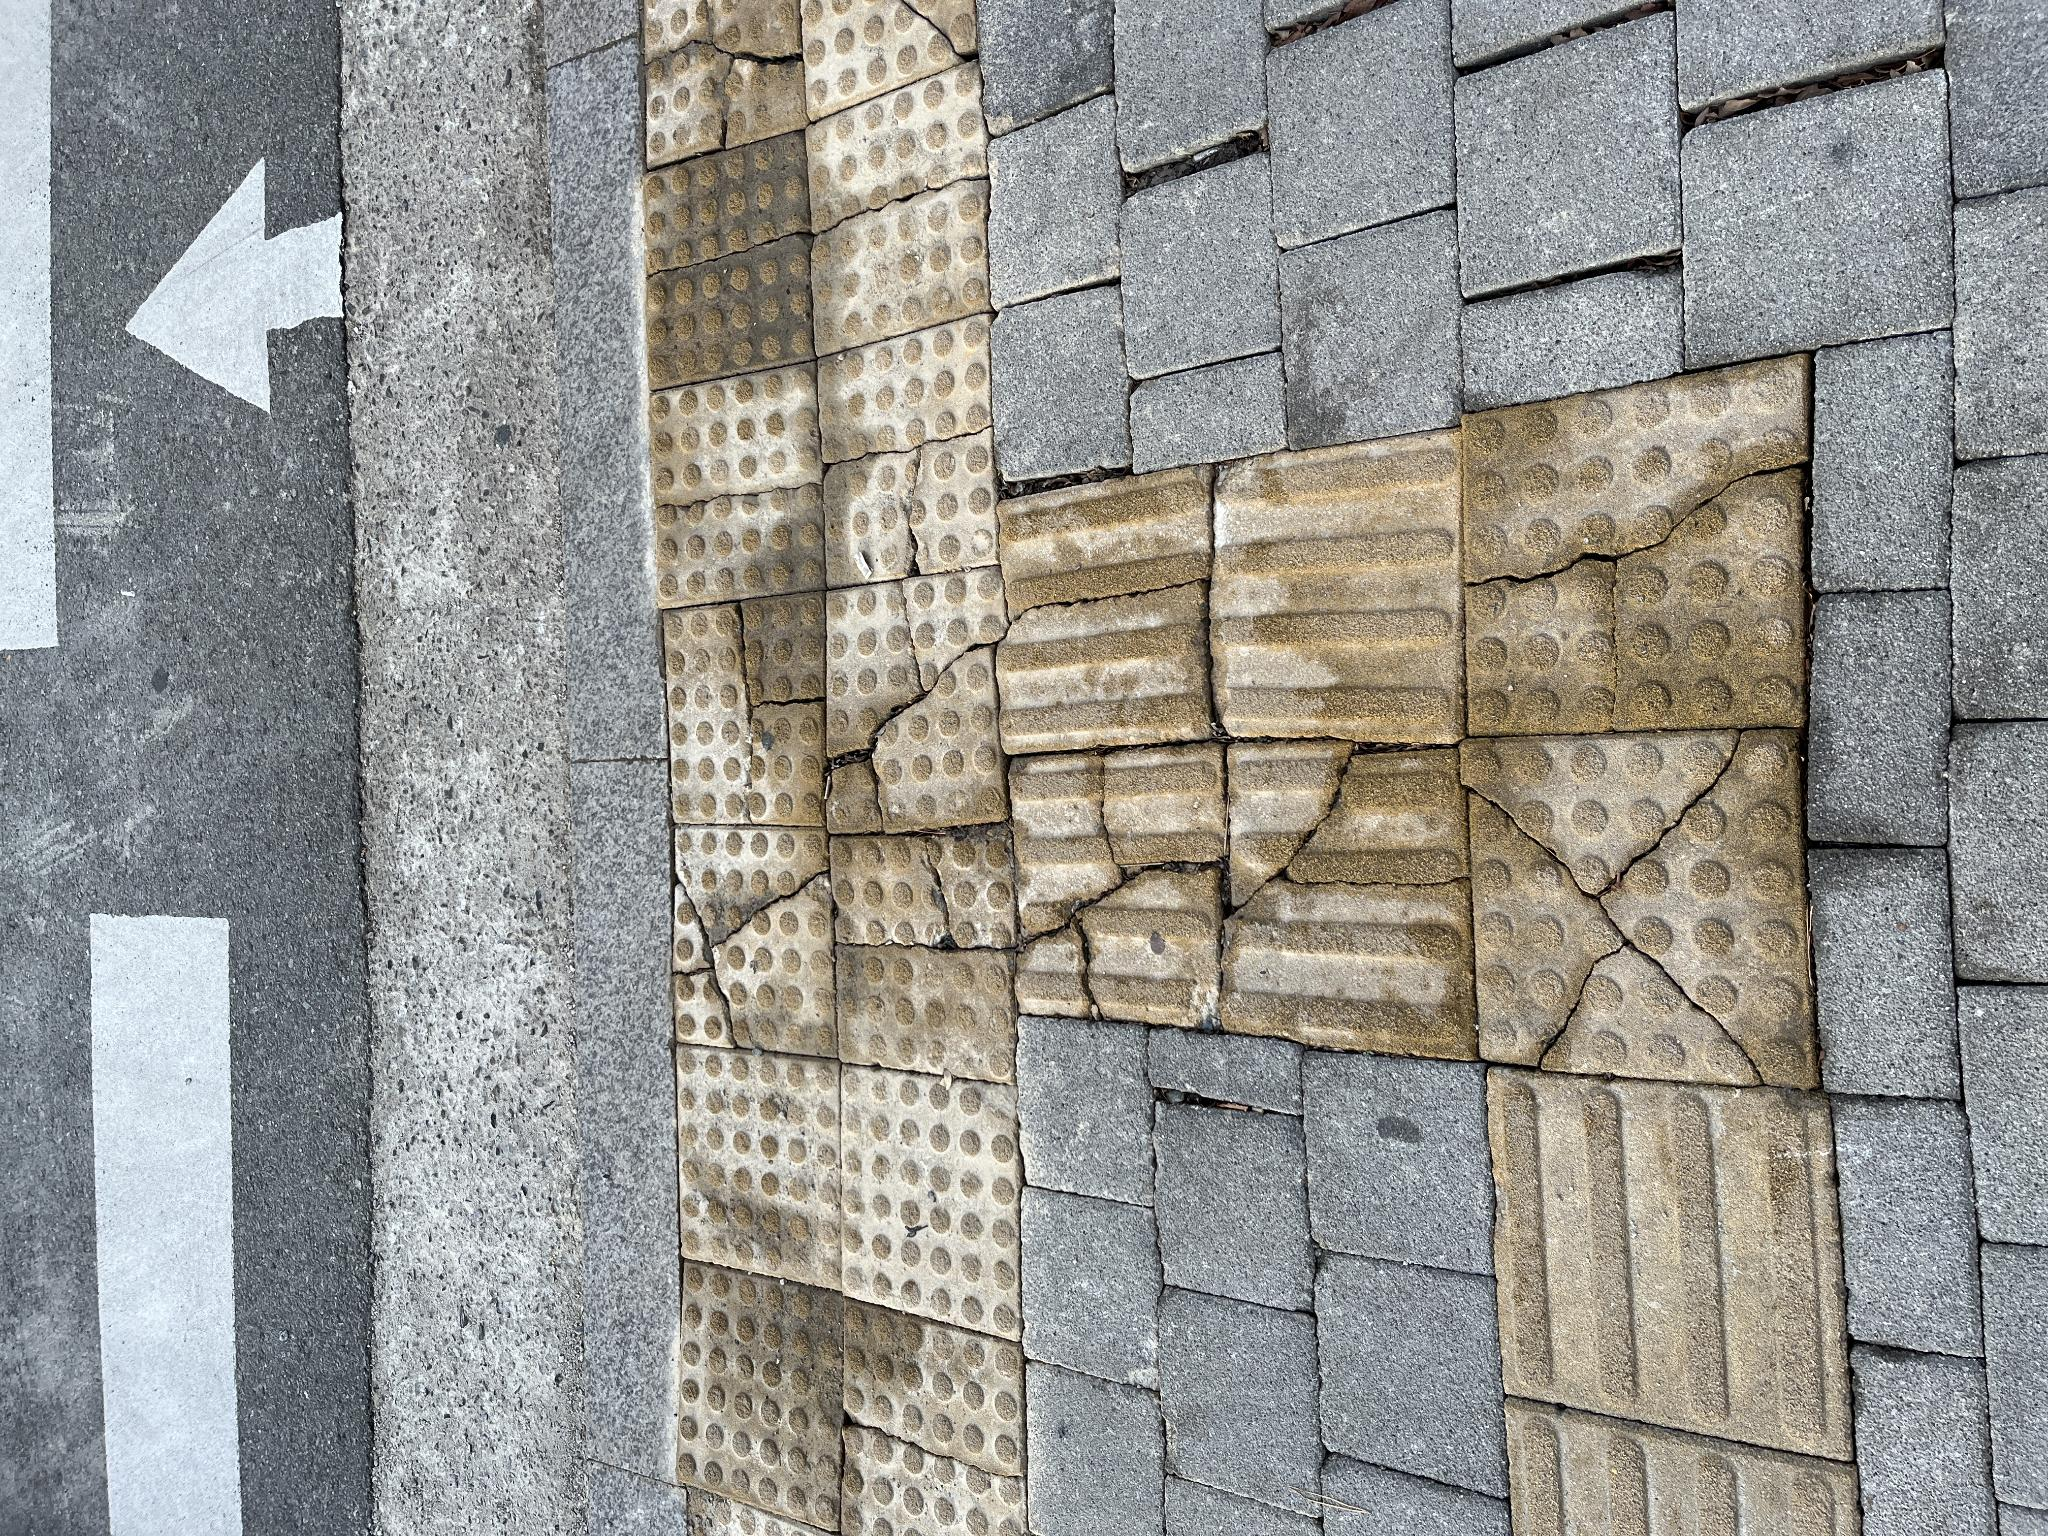Stop block broken: (1184, 808, 1469, 984), (951, 821, 1221, 995), (458, 833, 703, 1012), (706, 829, 968, 994), (1148, 645, 1398, 807), (929, 652, 1171, 818), (481, 678, 710, 833), (713, 665, 940, 820)
Stop block normal: (197, 842, 471, 1020), (250, 679, 489, 837)
Straight block broken: (481, 1228, 787, 1471), (785, 1002, 1066, 1213), (514, 1008, 787, 1213)
Straight block normal: (801, 1221, 1103, 1455)
